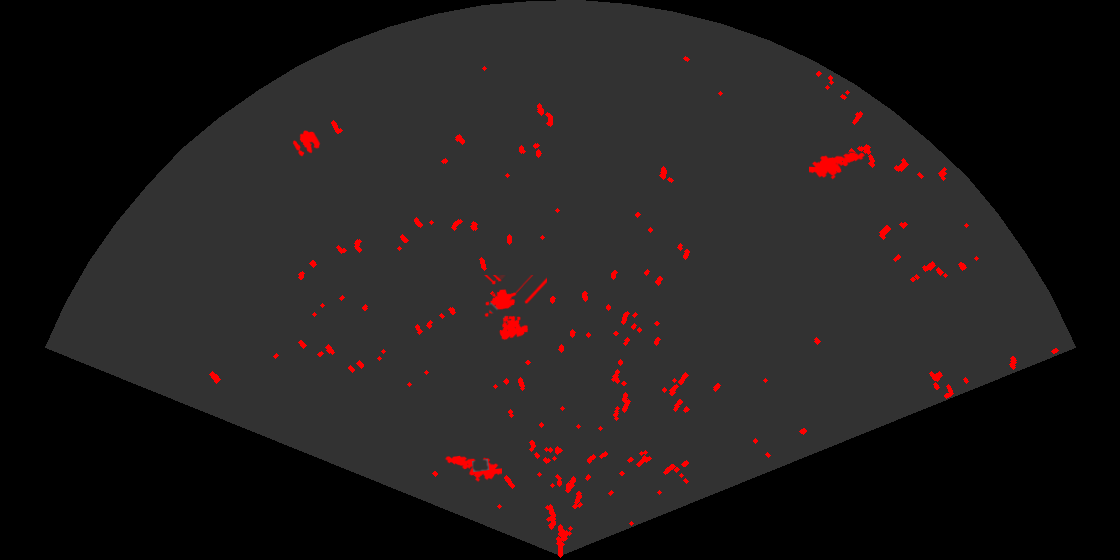ball: (291, 129, 322, 158)
cage: (482, 275, 547, 342)
frogman: (444, 454, 502, 484), (809, 151, 866, 181)
